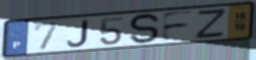5: (99, 15, 126, 46)
7: (33, 20, 59, 52)
F: (160, 9, 196, 43)
J: (65, 19, 89, 48)
S: (128, 12, 162, 46)
Z: (193, 7, 229, 40)
